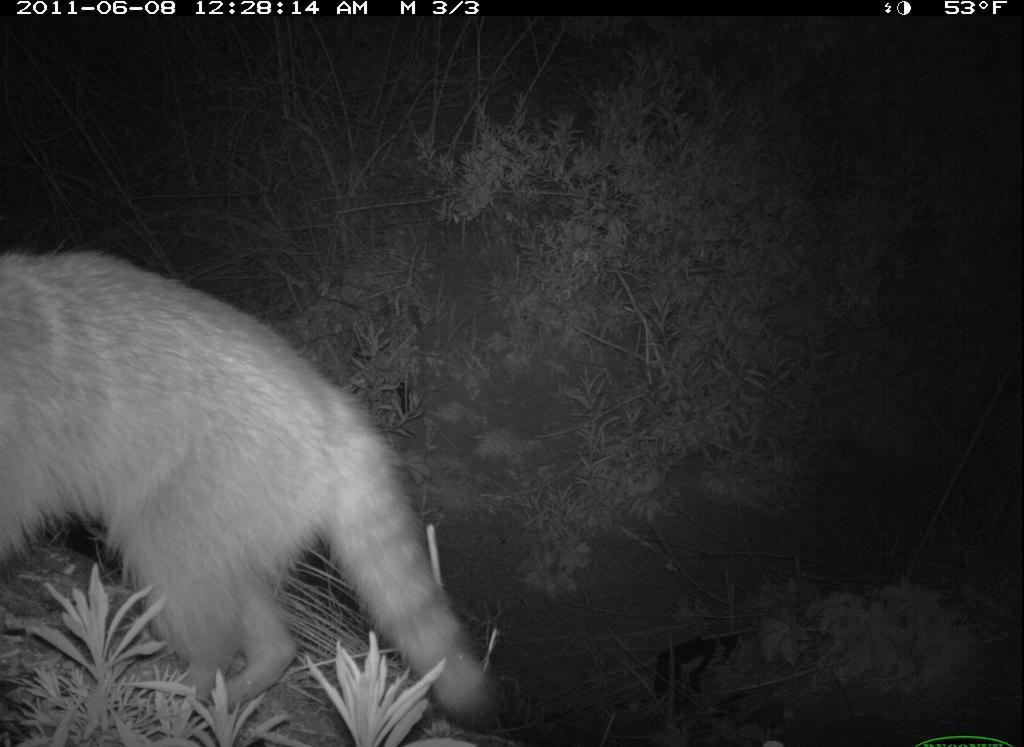raccoon: (1, 222, 510, 747)
